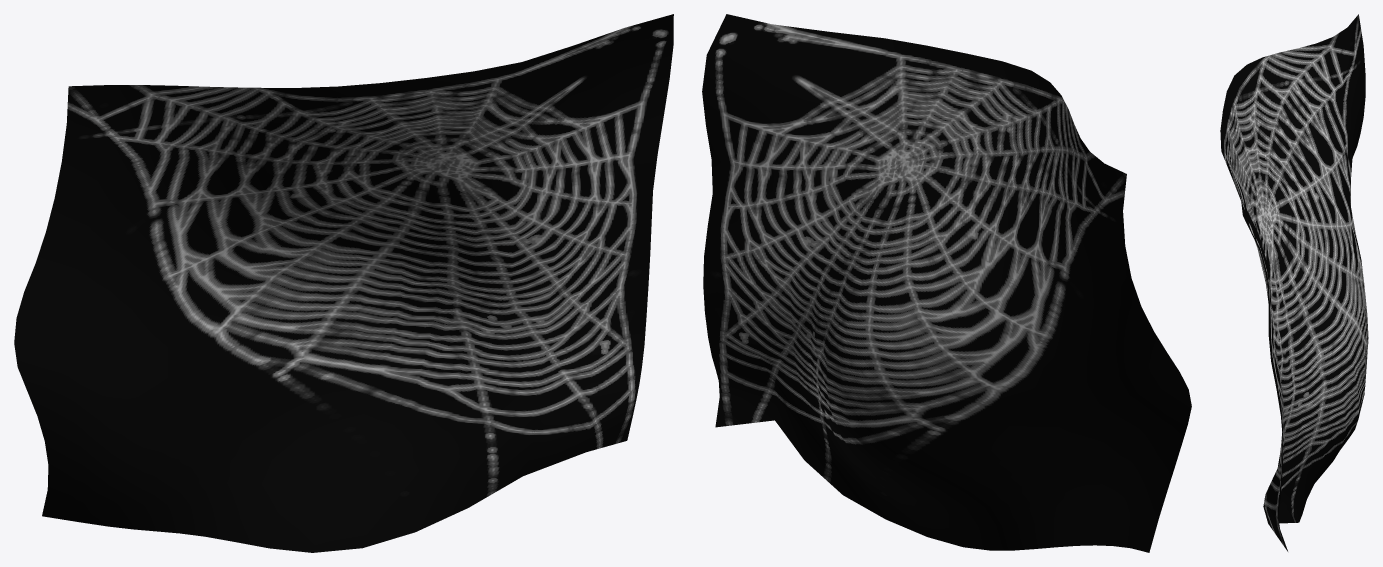
The model's file is SpiderWeb2.fbx.
3 views of the same model, side by side, from view 1: azimuth 30°, elevation 25°; view 2: azimuth 150°, elevation 25°; view 3: azimuth 270°, elevation 25° (orthographic). The views are drawn at different scales.
Parts seen in each view (by area): view 1: SpiderWeb2; view 2: SpiderWeb2; view 3: SpiderWeb2.
Part boxes in pixels (x1,y1,x2,y2): SpiderWeb2: (14, 14, 673, 552); SpiderWeb2: (702, 14, 1191, 552); SpiderWeb2: (1220, 14, 1368, 551).
Bounding box in the file's own units: 31.99 × 25.96 × 8.78.
